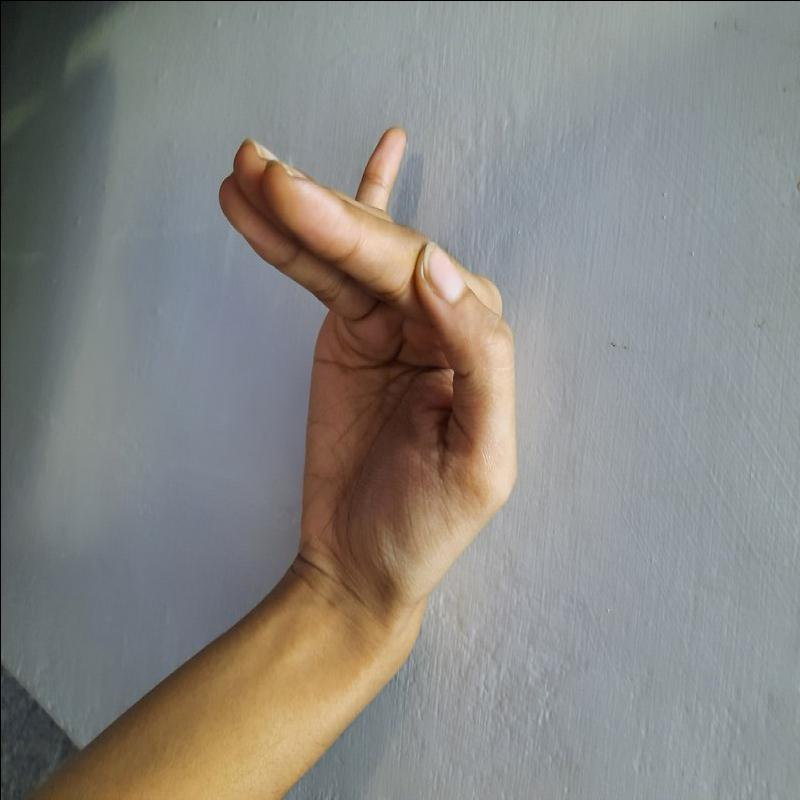Kartharee Mukham: (202, 100, 531, 612)
